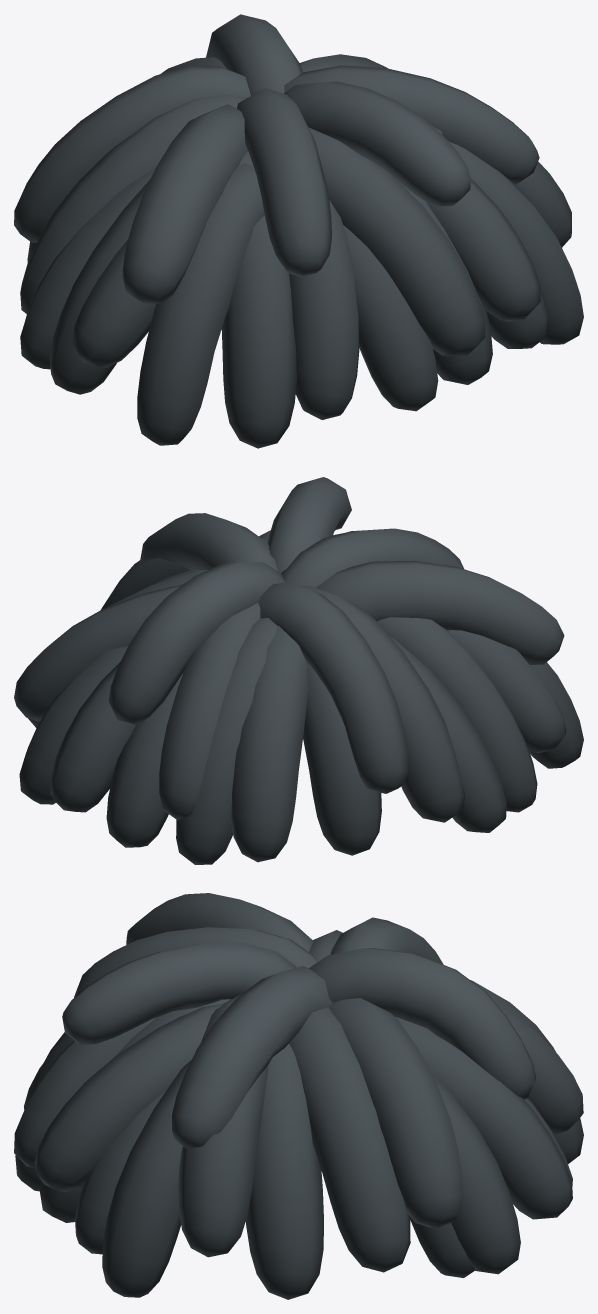
The model's file is Hairstyle_Male_12.glb.
The picture shows the model from 3 angles, top to bottom: view 1: azimuth 30°, elevation 25°; view 2: azimuth 150°, elevation 25°; view 3: azimuth 270°, elevation 25°; orthographic projection. The views are drawn at different scales.
Visible parts, largest first — view 1: Hairstyle_Male_12; view 2: Hairstyle_Male_12; view 3: Hairstyle_Male_12.
Part boxes in pixels (left/top/right/bottom): Hairstyle_Male_12: left=14, top=14, right=583, bottom=448; Hairstyle_Male_12: left=14, top=477, right=583, bottom=864; Hairstyle_Male_12: left=14, top=893, right=583, bottom=1299.
Bounding box in the file's own units: 0.6716 × 0.3451 × 0.6632.
1 material, 1 textured.
